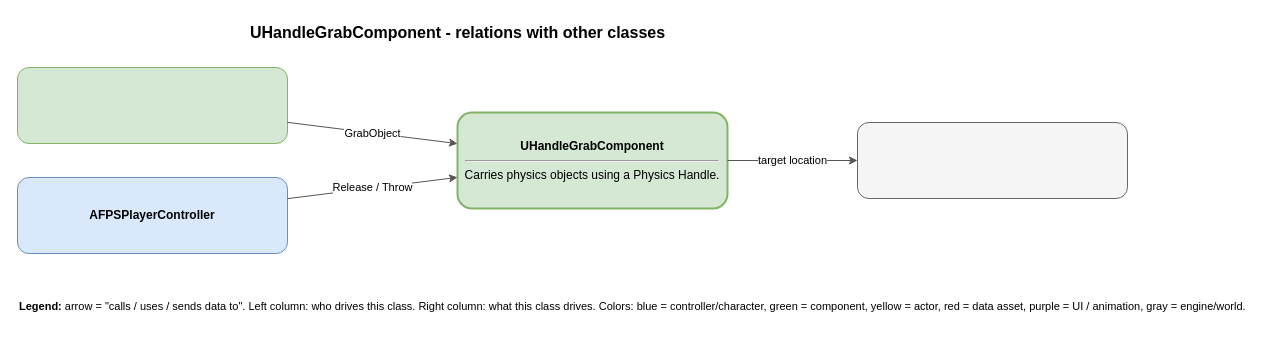
This 1264x350 diagram has some shape labels left out. The centre of each missing label's shape, as x and y in pixels:
UInteractionComponent: the point at 152,105
UPhysicsHandleComponent: the point at 992,160
